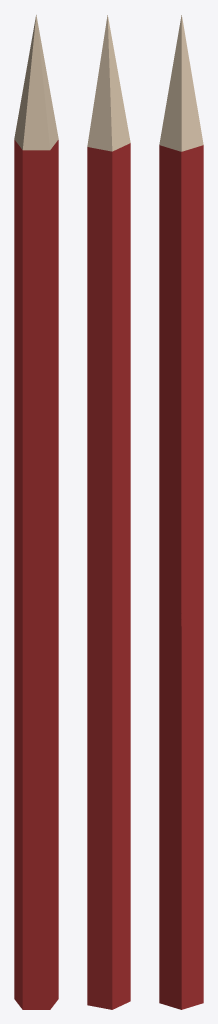
Rendered from SM_pencil_02.fbx.
The picture shows the model from 3 angles, left to right: view 1: azimuth 90°, elevation 25°; view 2: azimuth 210°, elevation 25°; view 3: azimuth 270°, elevation 25°; orthographic projection.
Parts seen in each view (by area): view 1: Cylinder006; view 2: Cylinder006; view 3: Cylinder006.
Part boxes in pixels (x1,y1,x2,y2): Cylinder006: [14, 15, 58, 1009]; Cylinder006: [87, 15, 130, 1009]; Cylinder006: [159, 15, 203, 1009].
Bounding box in the file's own units: 0.3903 × 10.05 × 0.4104.
